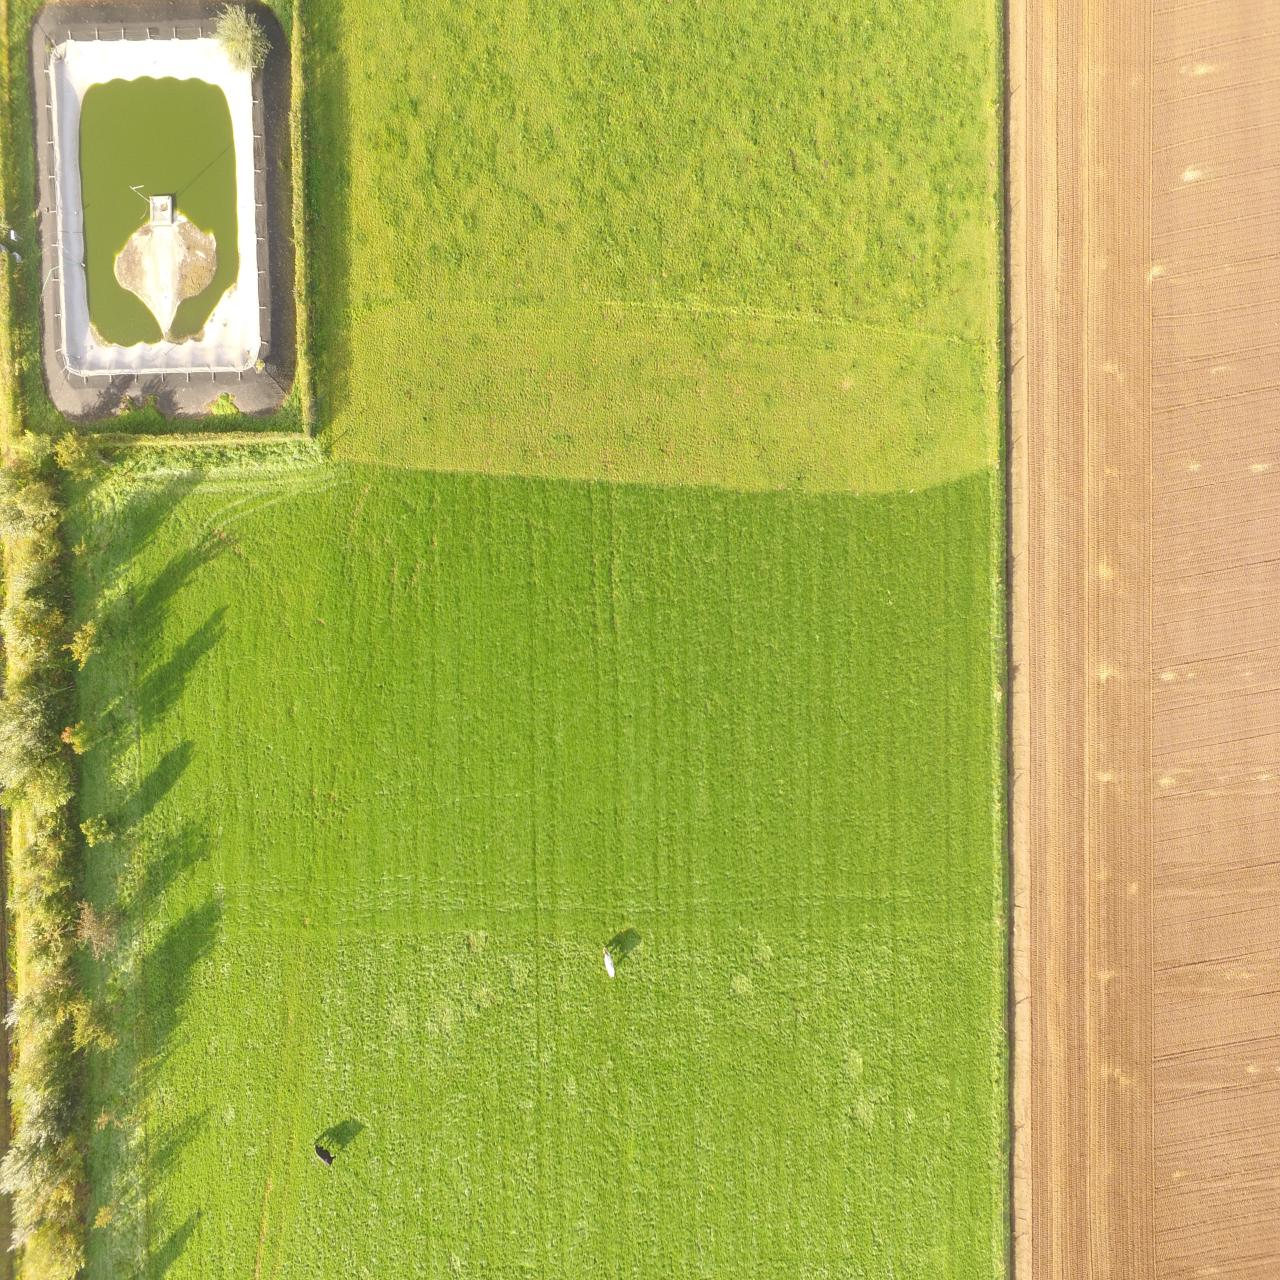cow: (312, 1139, 340, 1172), (599, 942, 615, 980)
